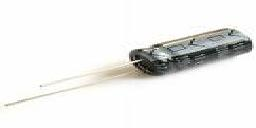Electrolytic Capacitor: (3, 27, 256, 108)
